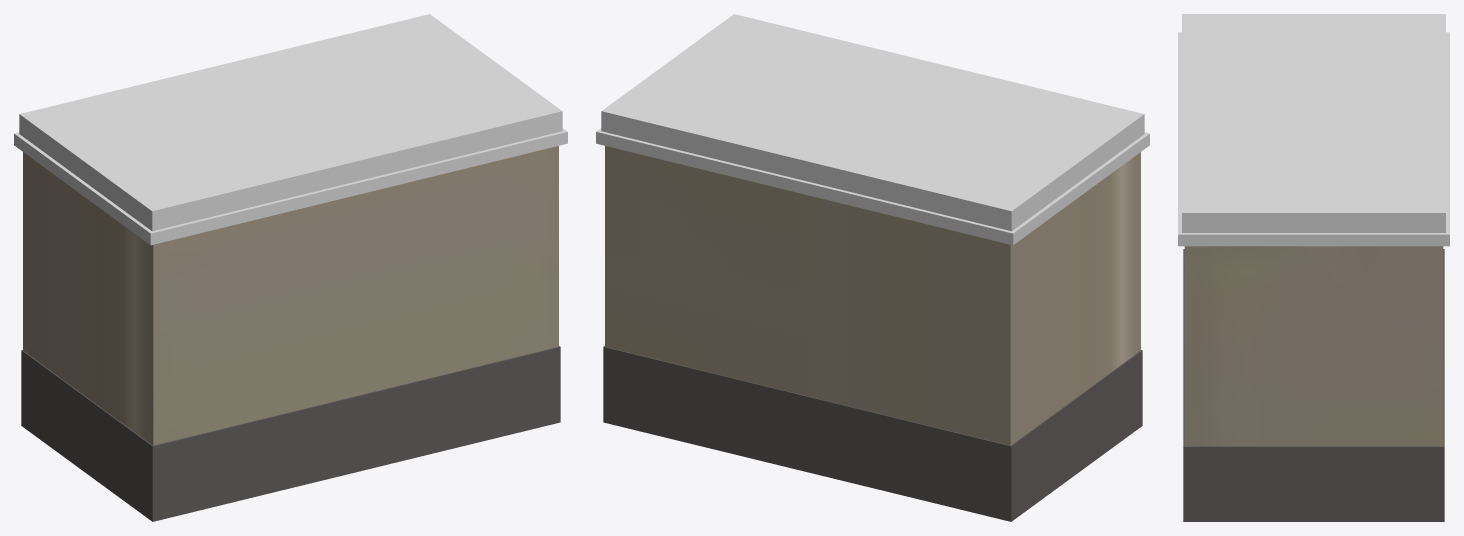
The model's file is bldg_plaster.glb.
3 renders of one model, left to right at view 1: azimuth 30°, elevation 25°; view 2: azimuth 150°, elevation 25°; view 3: azimuth 270°, elevation 25°, orthographic.
Visible parts, largest first — view 1: bldg_plaster_body, bldg_plaster_parapet, bldg_plaster_store, bldg_plaster_corn; view 2: bldg_plaster_body, bldg_plaster_parapet, bldg_plaster_store, bldg_plaster_corn; view 3: bldg_plaster_parapet, bldg_plaster_body, bldg_plaster_store, bldg_plaster_corn.
Part boxes in pixels (x1,y1,x2,y2): bldg_plaster_body: (23, 146, 558, 445); bldg_plaster_parapet: (19, 14, 562, 231); bldg_plaster_store: (21, 346, 560, 521); bldg_plaster_corn: (14, 128, 567, 245); bldg_plaster_body: (605, 146, 1140, 445); bldg_plaster_parapet: (601, 14, 1144, 231); bldg_plaster_store: (603, 346, 1142, 521); bldg_plaster_corn: (596, 128, 1149, 245); bldg_plaster_parapet: (1182, 14, 1445, 232); bldg_plaster_body: (1184, 246, 1443, 446); bldg_plaster_store: (1183, 249, 1444, 521); bldg_plaster_corn: (1178, 32, 1449, 246).
Bounding box in the file's own units: 18.5 × 13.2 × 10.5.
2 materials, 1 textured.
